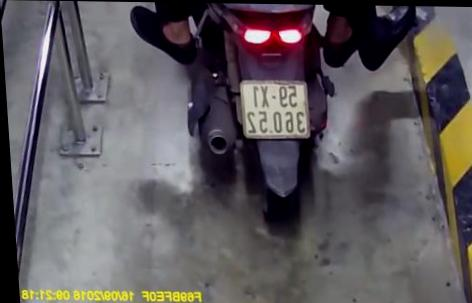License_Plate: (234, 73, 317, 146)
